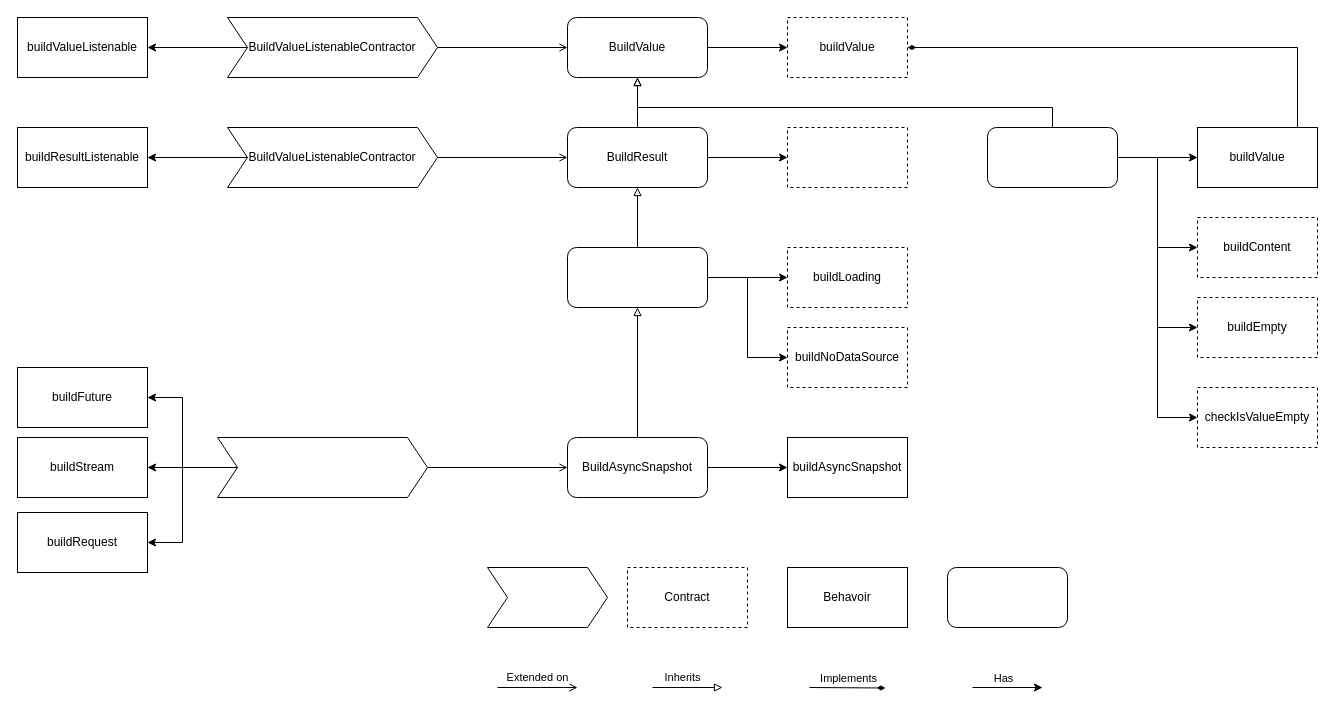
Image size: 1335x714. Some labels were removed from this diagram. Here are the shapes that lost their labels. From the top down, the box of each, then its label:
(786, 126, 908, 188): buildError
(986, 126, 1118, 188): WithEmptyValue
(566, 246, 708, 308): BuildAsyncResult
(216, 436, 428, 498): BuildAsyncResultConrtractor
(486, 566, 608, 628): Contractor
(946, 566, 1068, 628): Protocol
